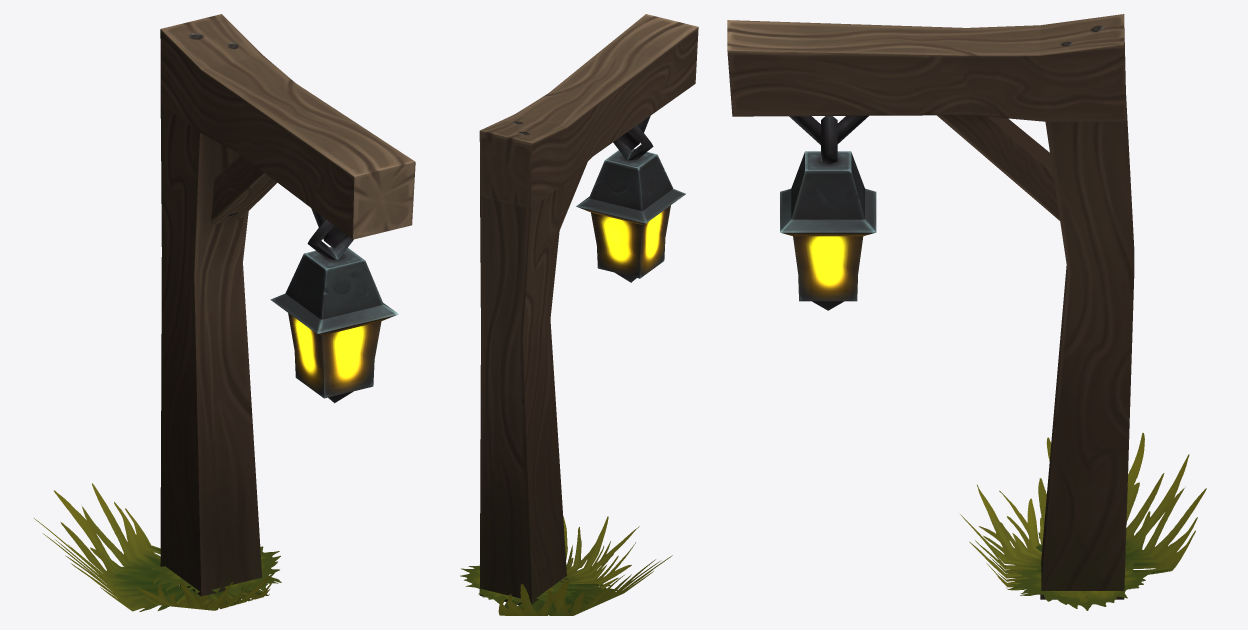
Rendered from lamp_post.fbx.
3 views of the same model, side by side, from view 1: azimuth 30°, elevation 25°; view 2: azimuth 150°, elevation 25°; view 3: azimuth 270°, elevation 25° (orthographic). The views are drawn at different scales.
Parts seen in each view (by area): view 1: lamp_post, lamp_post_grass; view 2: lamp_post, lamp_post_grass; view 3: lamp_post, lamp_post_grass.
Boxes of the visible parts, box(x1,y1,x2,y2) form: lamp_post: box(160, 14, 415, 596); lamp_post_grass: box(34, 483, 281, 611); lamp_post: box(479, 14, 698, 605); lamp_post_grass: box(460, 516, 672, 615); lamp_post: box(727, 14, 1134, 599); lamp_post_grass: box(960, 433, 1206, 610).
Bounding box in the file's own units: 81.16 × 162 × 134.
